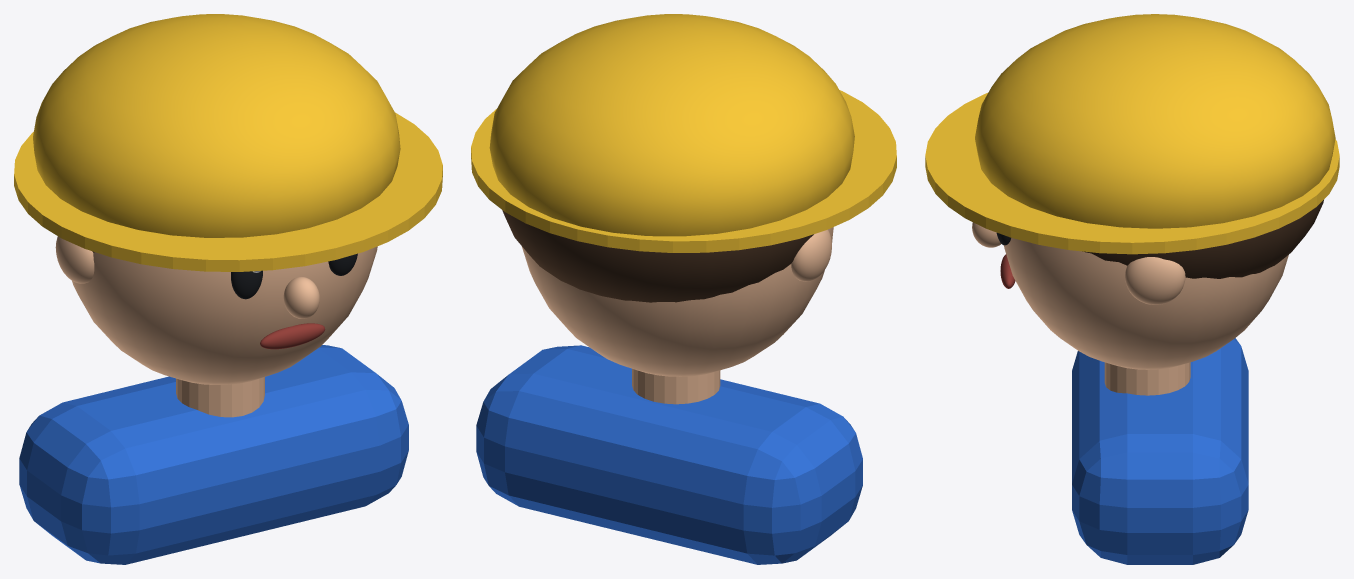
Rendered from busto_obrero.glb.
The picture shows the model from 3 angles, left to right: view 1: azimuth 30°, elevation 25°; view 2: azimuth 150°, elevation 25°; view 3: azimuth 270°, elevation 25°; orthographic projection. The views are drawn at different scales.
Parts seen in each view (by area): view 1: Sphere.006, Cube, Sphere, Cylinder.001, Cylinder, Sphere.001, Sphere.003, ojos, Sphere.004; view 2: Sphere.006, Cube, Sphere, Cylinder.001, Sphere.005, Cylinder, Sphere.001; view 3: Sphere.006, Cube, Sphere, Cylinder.001, Sphere.005, Sphere.002, Cylinder.
Boxes of the visible parts, x1=… form: Sphere.006: x1=33, y1=14, x2=400, y2=237; Cube: x1=19, y1=345, x2=408, y2=564; Sphere: x1=72, y1=246, x2=377, y2=384; Cylinder.001: x1=14, y1=112, x2=442, y2=271; Cylinder: x1=176, y1=377, x2=264, y2=417; Sphere.001: x1=55, y1=236, x2=94, y2=283; Sphere.003: x1=283, y1=276, x2=319, y2=318; ojos: x1=231, y1=253, x2=357, y2=299; Sphere.004: x1=260, y1=323, x2=325, y2=349; Sphere.006: x1=489, y1=14, x2=854, y2=236; Cube: x1=476, y1=345, x2=862, y2=564; Sphere: x1=521, y1=227, x2=833, y2=376; Cylinder.001: x1=471, y1=90, x2=896, y2=252; Sphere.005: x1=502, y1=210, x2=813, y2=302; Cylinder: x1=632, y1=368, x2=720, y2=404; Sphere.001: x1=791, y1=229, x2=831, y2=281; Sphere.006: x1=975, y1=14, x2=1335, y2=228; Cube: x1=1072, y1=338, x2=1248, y2=564; Sphere: x1=1004, y1=238, x2=1288, y2=369; Cylinder.001: x1=925, y1=93, x2=1339, y2=254; Sphere.005: x1=1082, y1=200, x2=1323, y2=278; Sphere.002: x1=1125, y1=257, x2=1185, y2=304; Cylinder: x1=1104, y1=362, x2=1190, y2=395.
Size of the model in its own units: 1.64 by 2.03 by 1.64.
